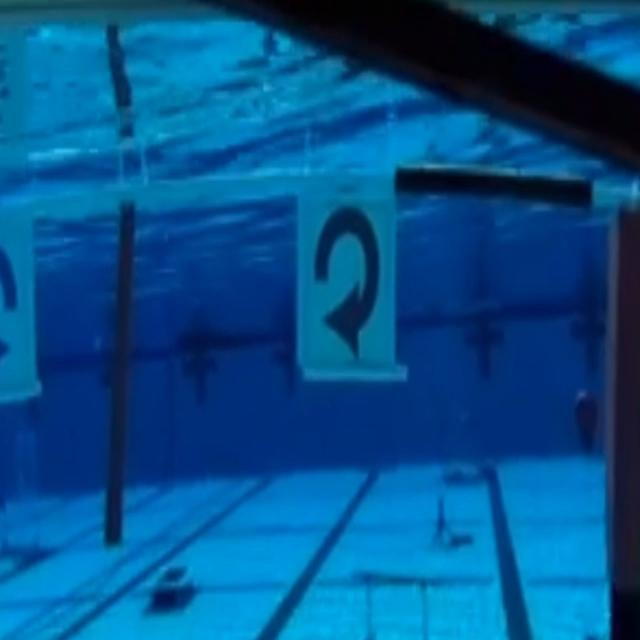Gate: (4, 178, 640, 632)
